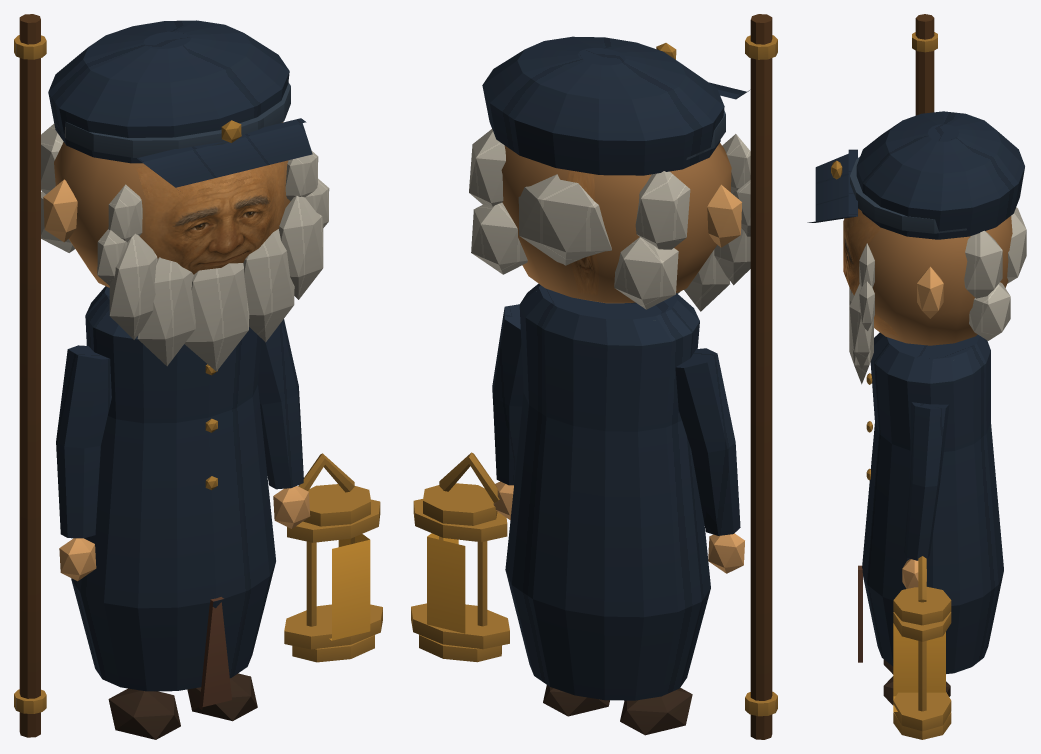
File: rowan-v01.glb
3 views of the same model, side by side, from view 1: azimuth 30°, elevation 25°; view 2: azimuth 150°, elevation 25°; view 3: azimuth 270°, elevation 25° (orthographic). The views are drawn at different scales.
Visible parts, largest first — view 1: coat, cap_crown, skull, staff, arm_l, arm_r, cap_brim, beard_lobe_2, beard_lobe_1, beard_lobe_3, lantern_glow, cap_band (+19 smaller); view 2: coat, cap_crown, staff, skull, arm_l, back_hair_1, arm_r, lantern_glow, back_hair_0, back_hair_3, back_hair_4, lantern_frame_0.23 (+13 smaller); view 3: coat, cap_crown, skull, arm_r, lantern_glow, cap_brim, back_hair_2, lantern_frame_0.23, lantern_frame_0.65, staff, back_hair_4, cap_band (+12 smaller).
Boxes of the visible parts, x1,y1,x2,y2 form: coat: (71,286,275,691); cap_crown: (48,20,289,163); skull: (54,122,290,287); staff: (19,14,40,737); arm_l: (56,345,111,538); arm_r: (258,319,303,489); cap_brim: (137,118,312,187); beard_lobe_2: (184,263,249,371); beard_lobe_1: (137,257,195,366); beard_lobe_3: (243,229,294,342); lantern_glow: (329,534,370,640); cap_band: (54,82,290,157); coat: (505,283,710,700); cap_crown: (482,36,724,175); staff: (750,14,772,739); skull: (501,143,731,303); arm_l: (675,348,740,535); back_hair_1: (518,174,611,265); arm_r: (492,304,523,485); lantern_glow: (427,533,465,633); back_hair_0: (635,171,690,249); back_hair_3: (614,237,678,309); back_hair_4: (471,202,527,274); lantern_frame_0.23: (411,603,509,649); coat: (862,332,1003,673); cap_crown: (856,111,1024,239); skull: (843,208,1012,345); arm_r: (904,402,949,560); lantern_glow: (893,623,945,711); cap_brim: (807,149,857,222); back_hair_2: (964,230,1002,298); lantern_frame_0.23: (893,692,951,731); lantern_frame_0.65: (893,587,951,625); staff: (915,14,934,115); back_hair_4: (969,282,1010,340); cap_band: (850,157,966,233).
Bounding box in the file's own units: 1.33 × 2.58 × 0.8351.
Materials: 2 (2 with a texture image).
